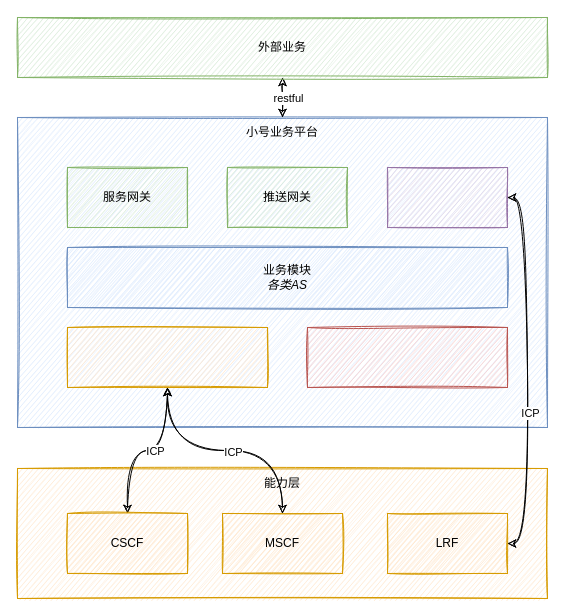
This 565x616 diagram has some shape labels left out. The shapes that lost their labels are listed below. From the top down, each one's box as (x1, y1, x2, y2) in pixels, then its label:
(386, 166, 508, 228): 管理服务
(66, 326, 268, 388): 能力网关
(306, 326, 508, 388): 能力鉴权服务
